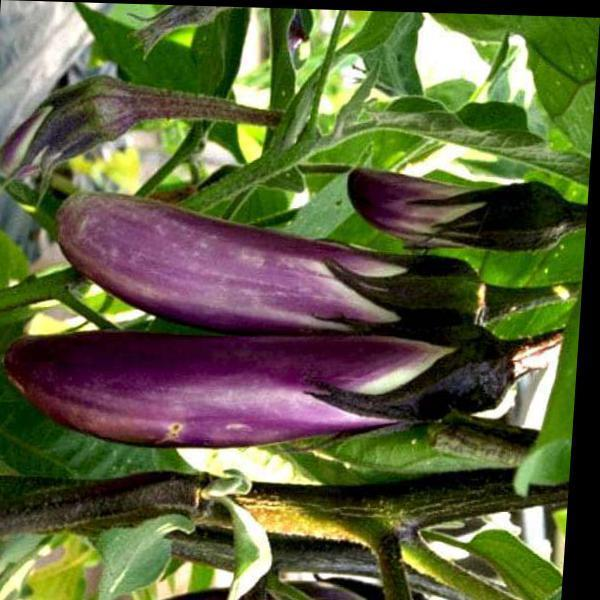eggplant: (8, 150, 532, 458)
